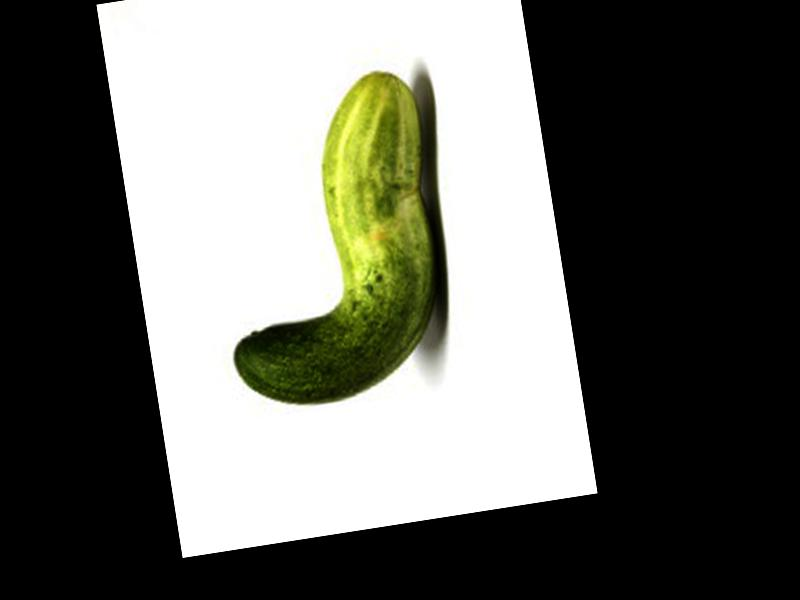Cucumber: (193, 65, 462, 416)
